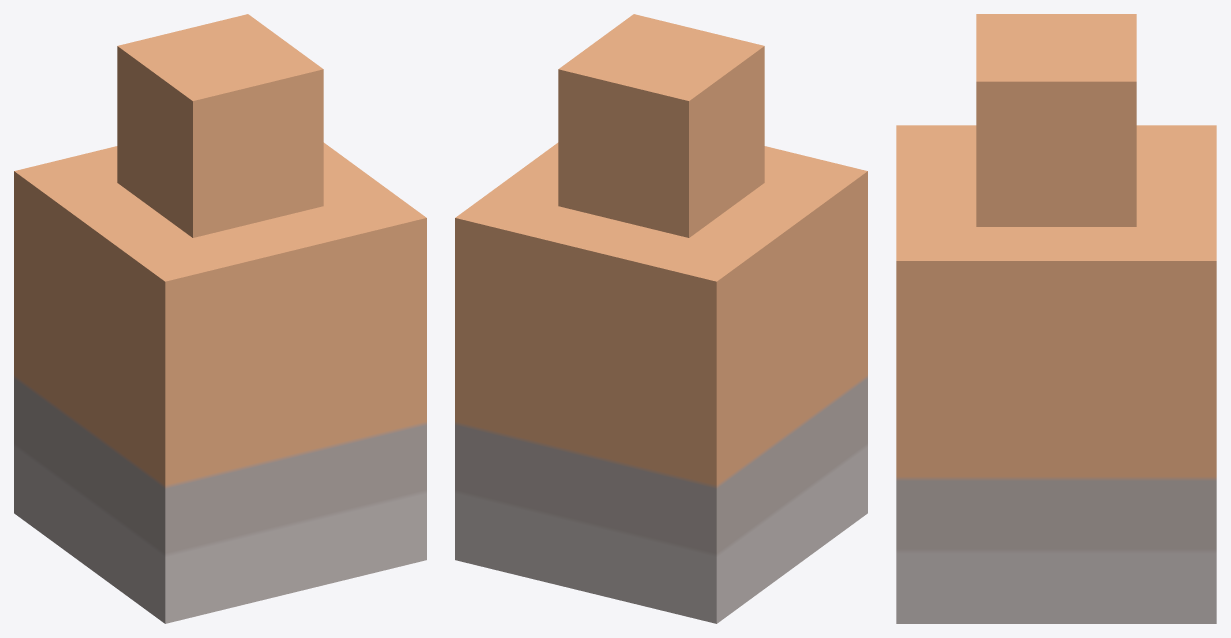
The model's file is Hip045.fbx.
The picture shows the model from 3 angles, left to right: view 1: azimuth 30°, elevation 25°; view 2: azimuth 150°, elevation 25°; view 3: azimuth 270°, elevation 25°; orthographic projection. The views are drawn at different scales.
Parts seen in each view (by area): view 1: Hip045; view 2: Hip045; view 3: Hip045.
Boxes of the visible parts, x1,y1,x2,y2 form: Hip045: [14, 14, 426, 623]; Hip045: [455, 14, 867, 623]; Hip045: [896, 14, 1216, 623].
Size of the model in its own units: 4 by 7 by 4.
